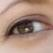eye: (17, 22, 34, 34)
